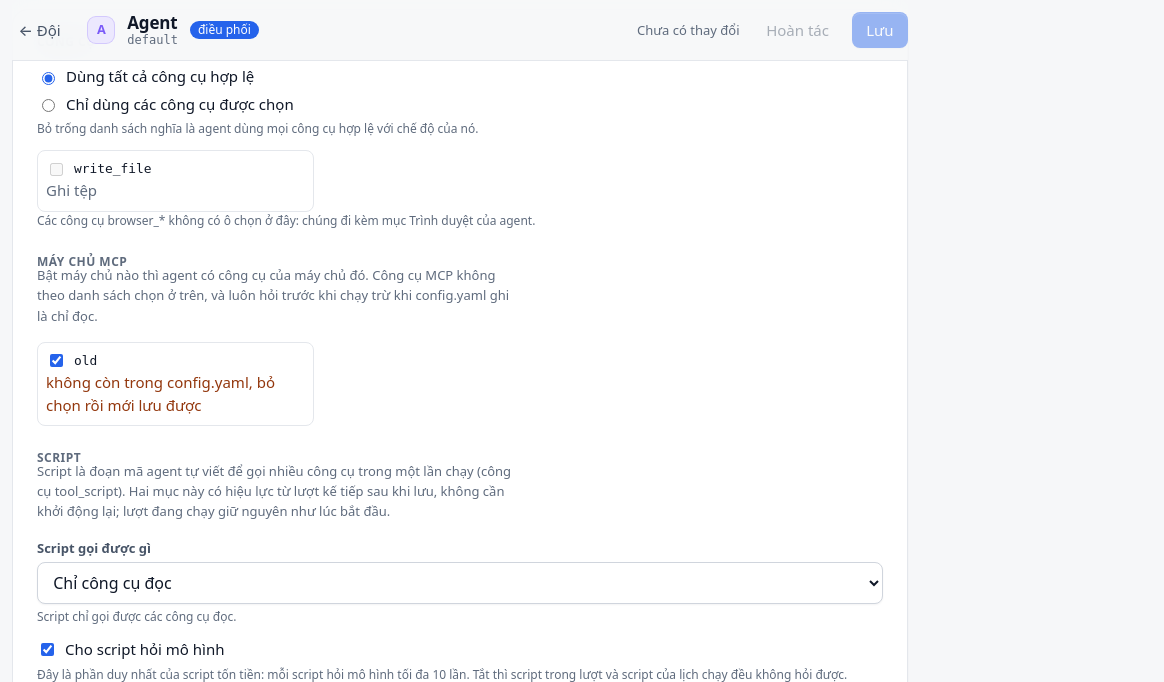
Test: the keyboard once a server the file dropped is unticked › is on “every tool”, the radio that is on, when the list of servers went with the row
(page scrolled)
Step 1. Click the checkbox labelled "old" → x=56, y=361, box [50,354,63,367]
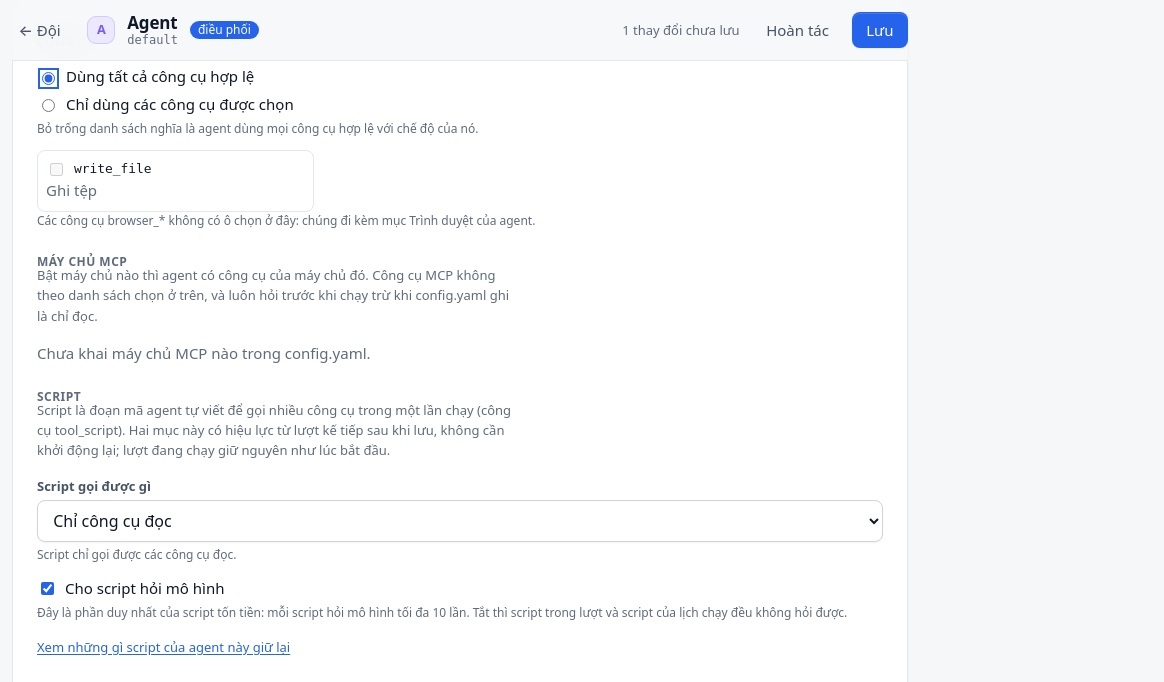
Expected: the radio button labelled "Dùng tất cả công cụ hợp lệ" is checked, [42,72,55,85]
Now the list with test id "mcp-picker" is gone
Now the text "Chưa khai máy chủ MCP nào trong config.yaml." is shown, box [37,343,371,363]
